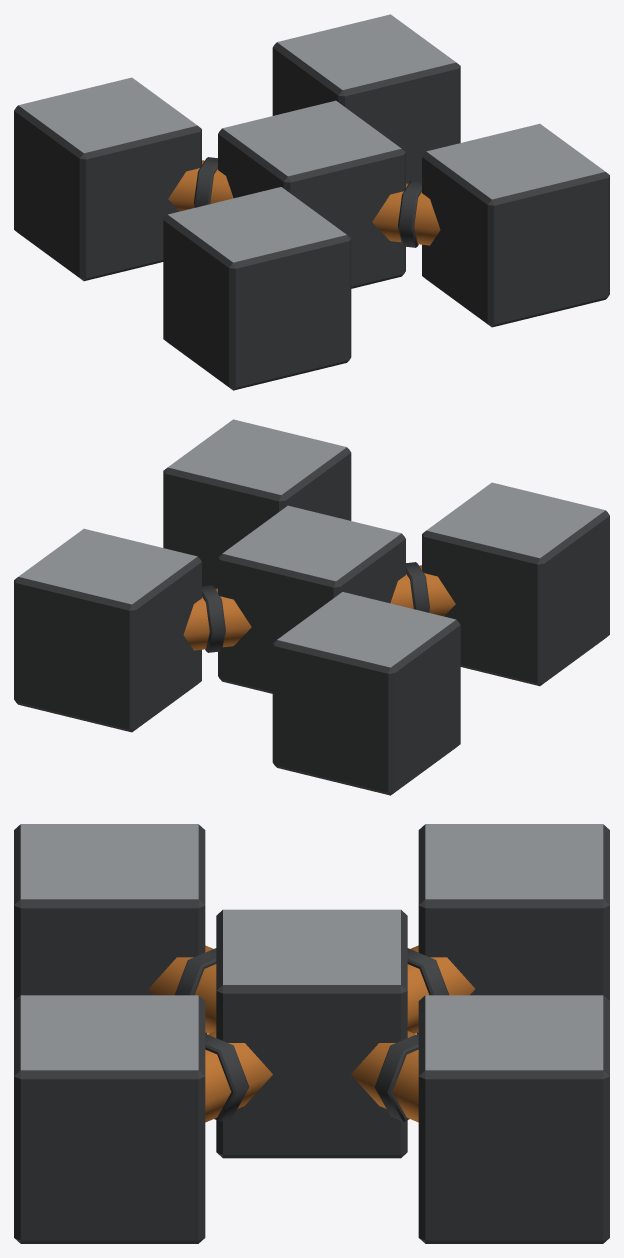
Rendered from R4C_STRUT_CROSS_LOD1.fbx.
3 renders of one model, top to bottom at view 1: azimuth 30°, elevation 25°; view 2: azimuth 150°, elevation 25°; view 3: azimuth 270°, elevation 25°, orthographic. The views are drawn at different scales.
Visible parts, largest first — view 1: R4C_STRUT_CROSS_LOD1; view 2: R4C_STRUT_CROSS_LOD1; view 3: R4C_STRUT_CROSS_LOD1.
Part boxes in pixels (bbox=[...]): R4C_STRUT_CROSS_LOD1: bbox=[14, 14, 609, 390]; R4C_STRUT_CROSS_LOD1: bbox=[14, 419, 609, 795]; R4C_STRUT_CROSS_LOD1: bbox=[14, 824, 609, 1243].
Bounding box in the file's own units: 1.62 × 0.52 × 1.62.
